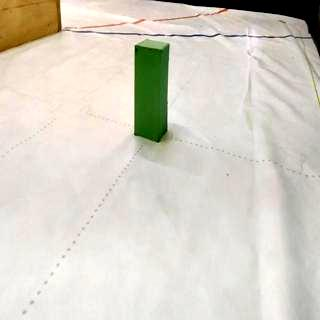greenbox: (132, 38, 172, 144)
